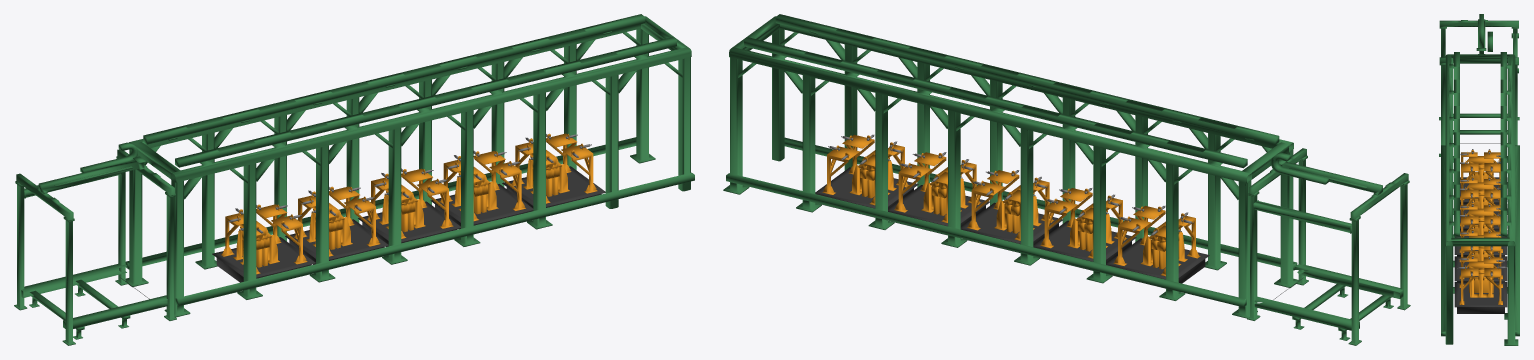
Rendered from 铆接线整体静态.obj.
The picture shows the model from 3 angles, left to right: view 1: azimuth 30°, elevation 25°; view 2: azimuth 150°, elevation 25°; view 3: azimuth 270°, elevation 25°; orthographic projection. The views are drawn at different scales.
Visible parts, largest first — view 1: 1, object 2, object 4, object 23, object 7, object 11, object 15, object 19, object 21, object 5, object 13, object 17 (+1 smaller); view 2: 1, object 2, object 4, object 23, object 11, object 15, object 19, object 7, object 21, object 9, object 13, object 17 (+1 smaller); view 3: 1, object 4, object 2, object 7, object 15, object 19, object 23, object 5, object 11, object 9, object 6, object 13 (+6 smaller).
Part boxes in pixels (<box>): 1: <box>125,16,694,317</box>; object 2: <box>143,14,676,167</box>; object 4: <box>14,142,176,345</box>; object 23: <box>221,204,307,274</box>; object 7: <box>511,133,597,203</box>; object 11: <box>439,151,525,221</box>; object 15: <box>366,168,453,238</box>; object 19: <box>294,186,380,256</box>; object 21: <box>212,237,315,277</box>; object 5: <box>502,166,605,207</box>; object 13: <box>358,201,460,242</box>; object 17: <box>285,219,388,260</box>; 1: <box>723,16,1298,318</box>; object 2: <box>744,14,1279,168</box>; object 4: <box>1247,148,1410,345</box>; object 23: <box>1113,205,1200,276</box>; object 11: <box>894,152,981,222</box>; object 15: <box>967,170,1053,240</box>; object 19: <box>1040,188,1127,258</box>; object 7: <box>822,134,909,205</box>; object 21: <box>1106,238,1209,279</box>; object 9: <box>888,185,990,226</box>; object 13: <box>960,202,1063,243</box>; object 17: <box>1033,220,1136,261</box>; 1: <box>1441,54,1519,345</box>; object 4: <box>1439,14,1519,156</box>; object 2: <box>1454,52,1506,236</box>; object 7: <box>1459,255,1502,304</box>; object 15: <box>1459,202,1502,252</box>; object 19: <box>1460,176,1500,226</box>; object 23: <box>1460,150,1500,200</box>; object 5: <box>1454,282,1507,307</box>; object 11: <box>1459,229,1502,279</box>; object 9: <box>1454,256,1507,281</box>; object 6: <box>1457,307,1504,313</box>; object 13: <box>1454,230,1507,254</box>.
Size of the model in its own units: 17434 by 4051 by 2612.
